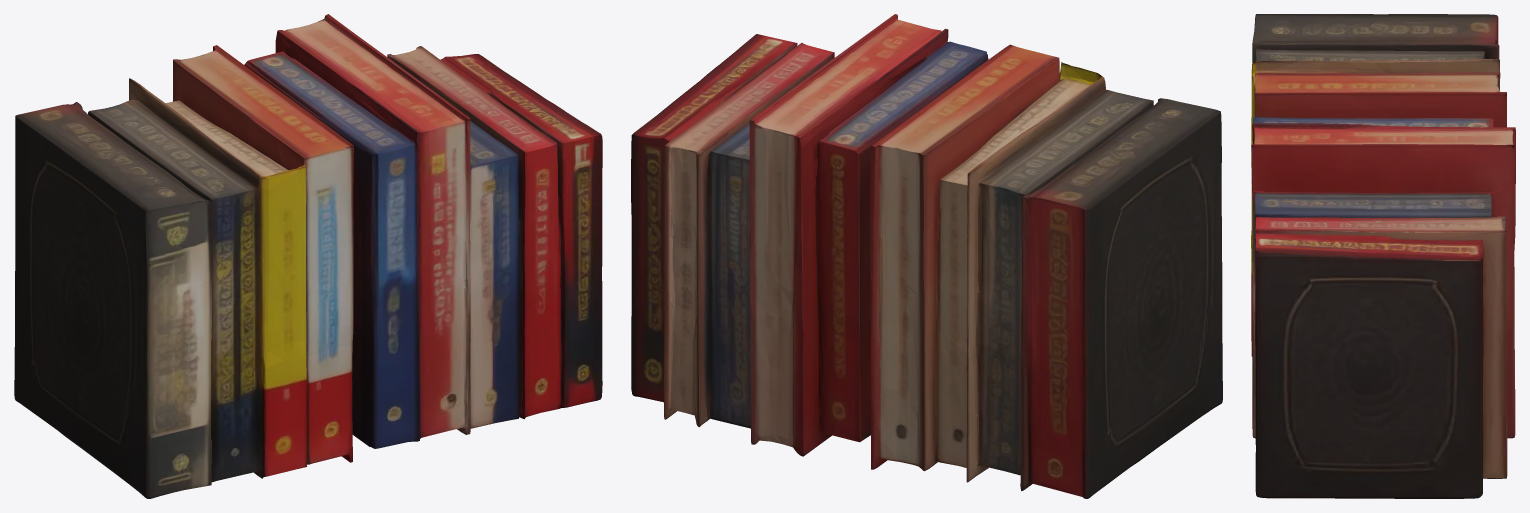
The picture shows the model from 3 angles, left to right: view 1: azimuth 30°, elevation 25°; view 2: azimuth 150°, elevation 25°; view 3: azimuth 270°, elevation 25°; orthographic projection. The views are drawn at different scales.
Visible parts, largest first — view 1: geometry_0; view 2: geometry_0; view 3: geometry_0.
Part boxes in pixels (x1,y1,x2,y2): geometry_0: [14, 14, 602, 498]; geometry_0: [631, 14, 1222, 498]; geometry_0: [1251, 14, 1515, 498].
Bounding box in the file's own units: 0.9995 × 0.6655 × 0.5422.
Materials: 1 (1 with a texture image).
